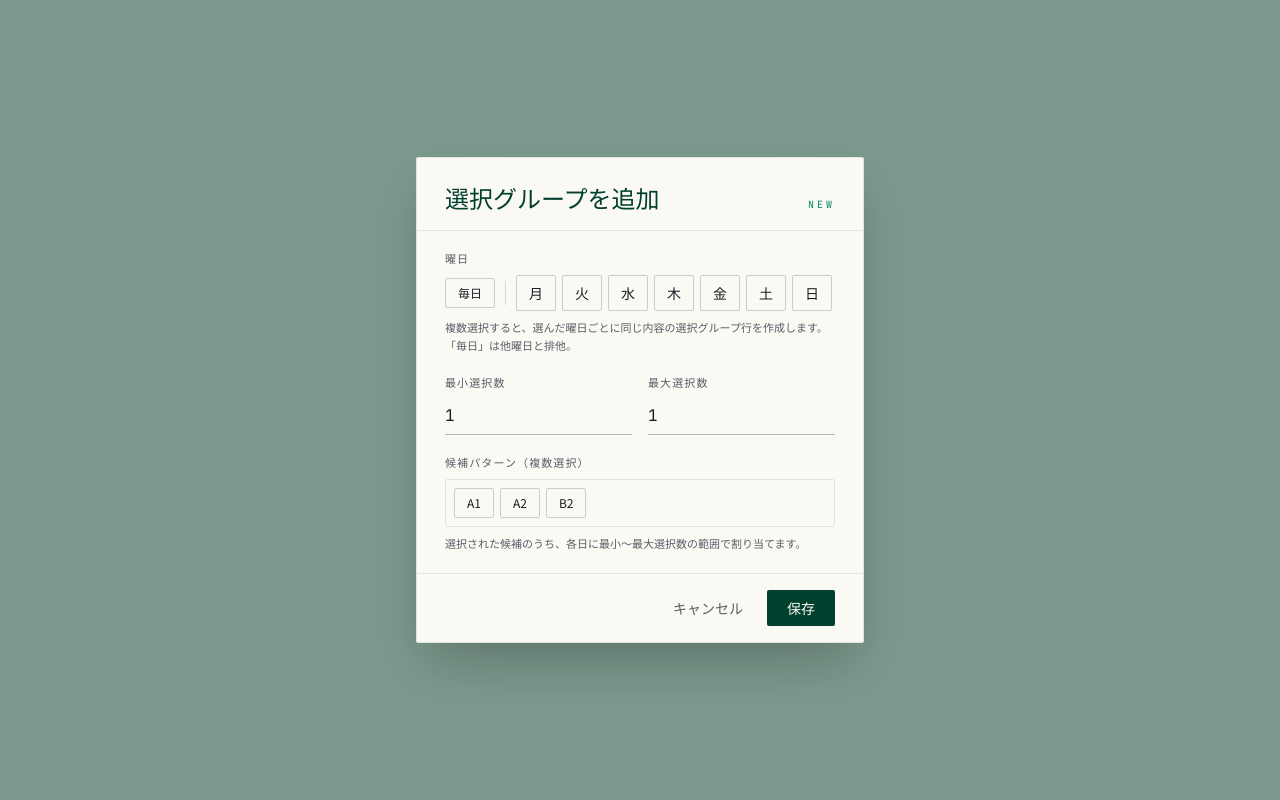
Test: ChoiceGroupFormModal — create mode › rejects submit when no candidate is selected
Click the button "保存" at {"x": 801, "y": 608}, box [767,590,835,626]
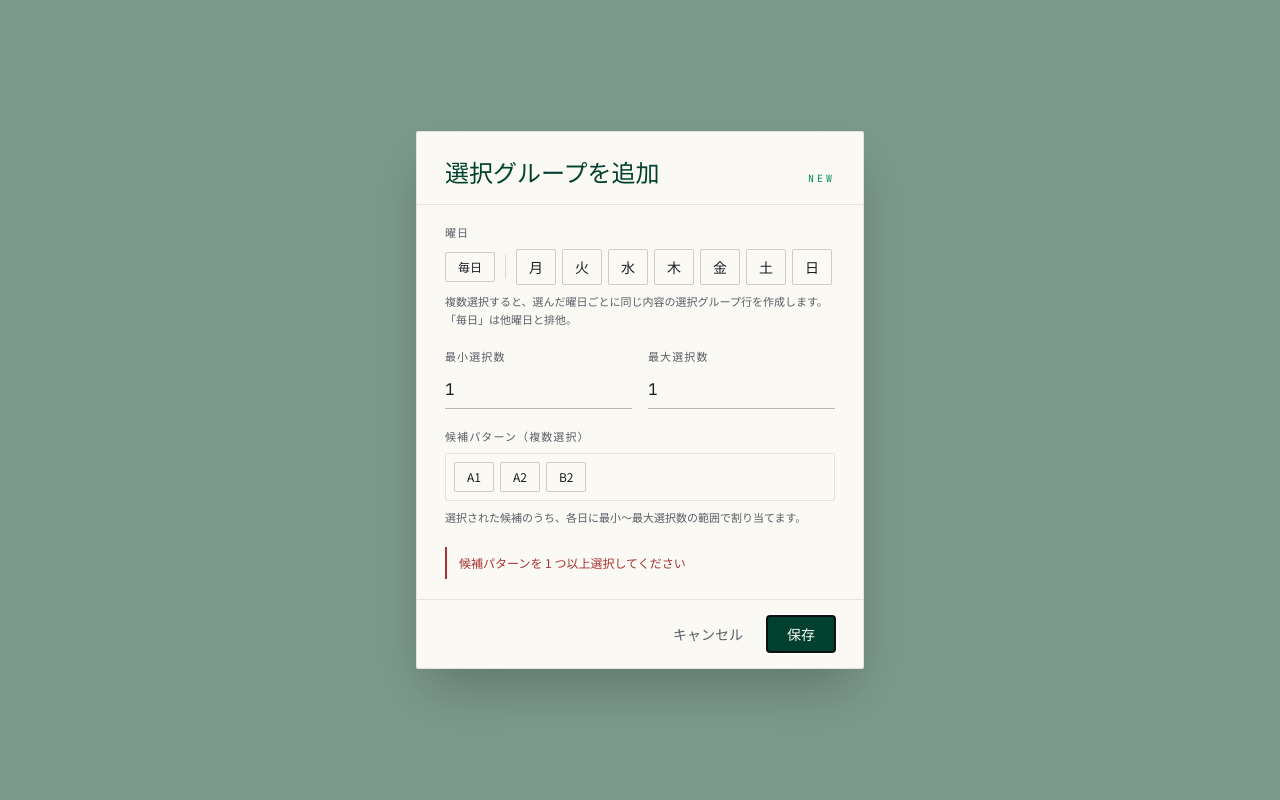
Expected: the text "候補パターンを 1 つ以上選択してください" is shown, [445,547,835,579]
